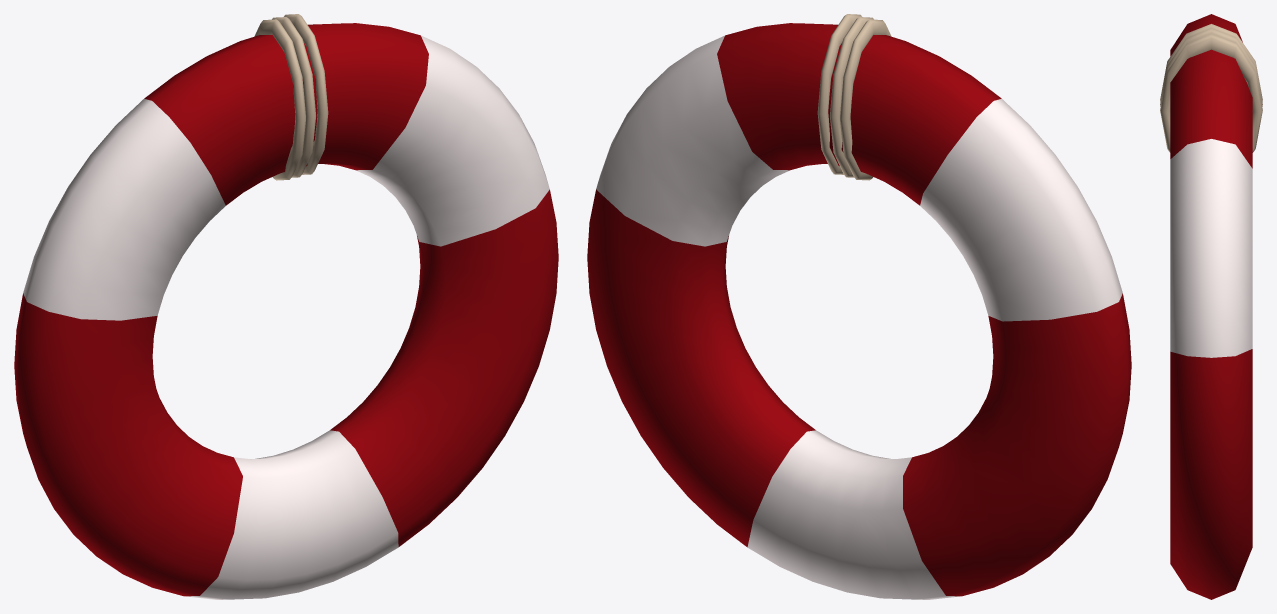
Rendered from Lifesaver.fbx.
3 views of the same model, side by side, from view 1: azimuth 30°, elevation 25°; view 2: azimuth 150°, elevation 25°; view 3: azimuth 270°, elevation 25° (orthographic). The views are drawn at different scales.
Parts seen in each view (by area): view 1: Lifesaver_LOD0; view 2: Lifesaver_LOD0; view 3: Lifesaver_LOD0.
Part boxes in pixels (x1=…): Lifesaver_LOD0: x1=14, y1=14, x2=558, y2=599; Lifesaver_LOD0: x1=587, y1=14, x2=1131, y2=599; Lifesaver_LOD0: x1=1160, y1=14, x2=1262, y2=599.
Size of what is drawn, in the model's own units: 265 by 271 by 46.39.
